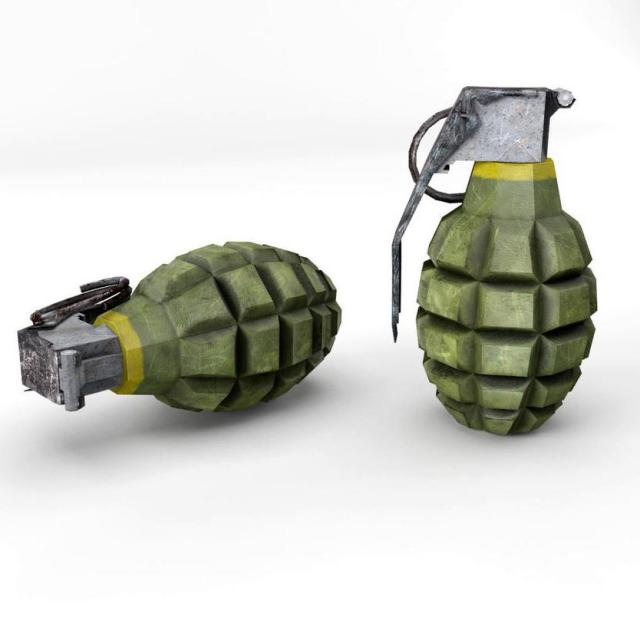grenade: (393, 87, 600, 437), (17, 241, 344, 437)
